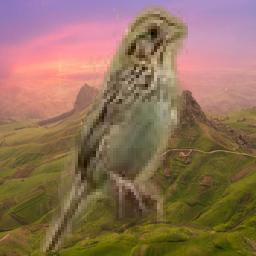Sparrow: (38, 6, 189, 253)
